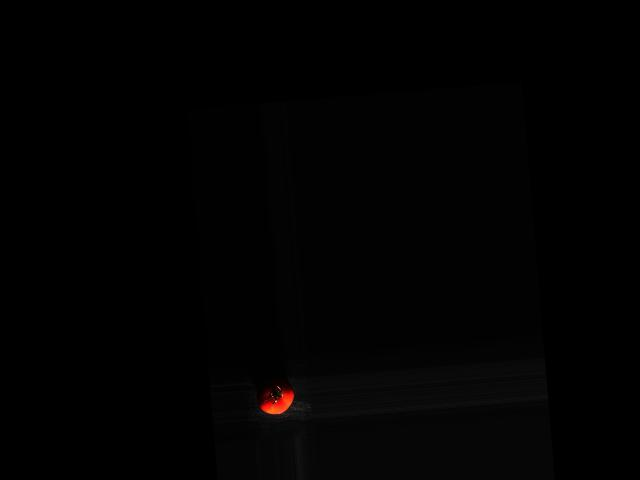tomato: (255, 375, 295, 415)
